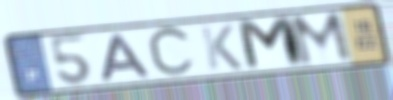5: (47, 32, 94, 89)
A: (99, 32, 155, 83)
C: (145, 23, 198, 81)
K: (197, 23, 246, 72)
M: (233, 14, 308, 73), (287, 9, 356, 69)
